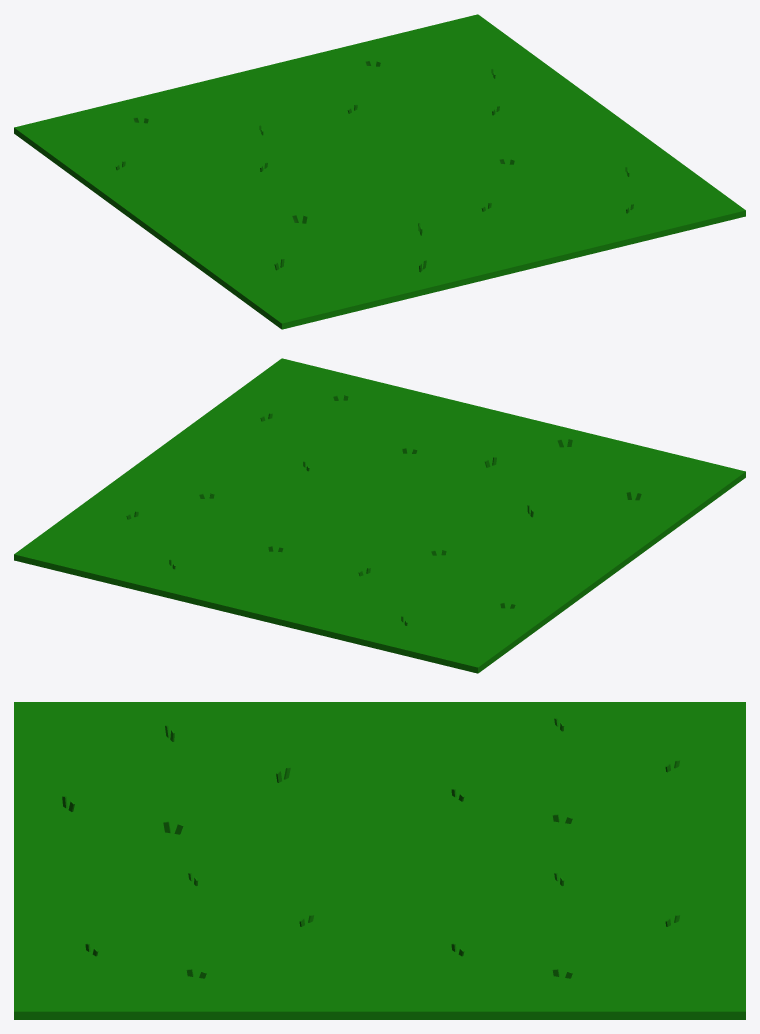
The model's file is Tile4x4Planta.fbx.
3 renders of one model, top to bottom at view 1: azimuth 30°, elevation 25°; view 2: azimuth 150°, elevation 25°; view 3: azimuth 270°, elevation 25°, orthographic. The views are drawn at different scales.
Parts seen in each view (by area): view 1: TilePlanta4x4; view 2: TilePlanta4x4; view 3: TilePlanta4x4.
Boxes of the visible parts, x1=… form: TilePlanta4x4: x1=14, y1=14, x2=745, y2=329; TilePlanta4x4: x1=14, y1=358, x2=745, y2=673; TilePlanta4x4: x1=14, y1=702, x2=745, y2=1019.
Size of the model in its own units: 800 by 22.9 by 800.
